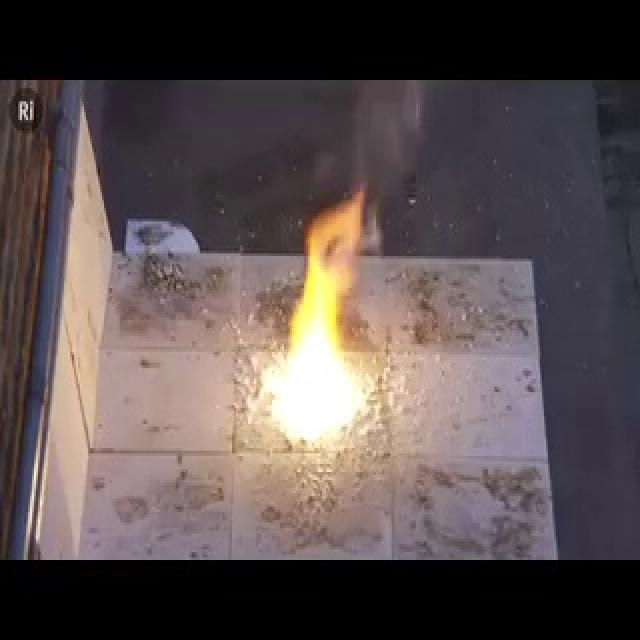fire: (255, 211, 379, 456)
